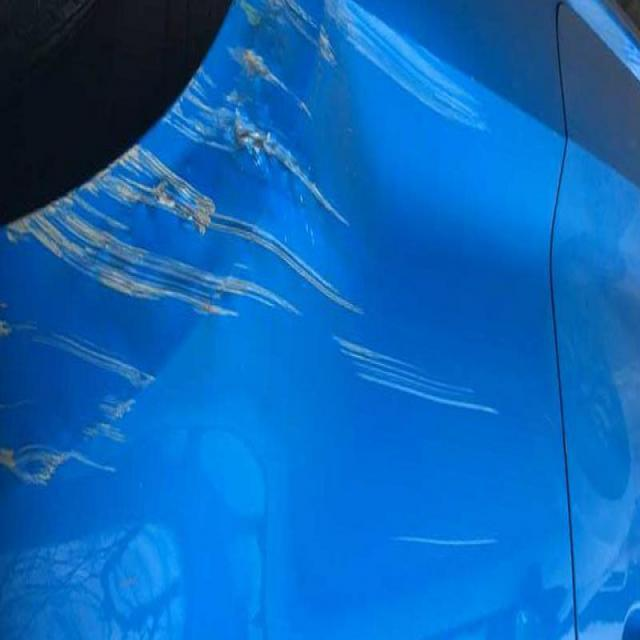scratch: (4, 11, 499, 333), (0, 347, 158, 513), (318, 318, 514, 429), (382, 516, 509, 576)
